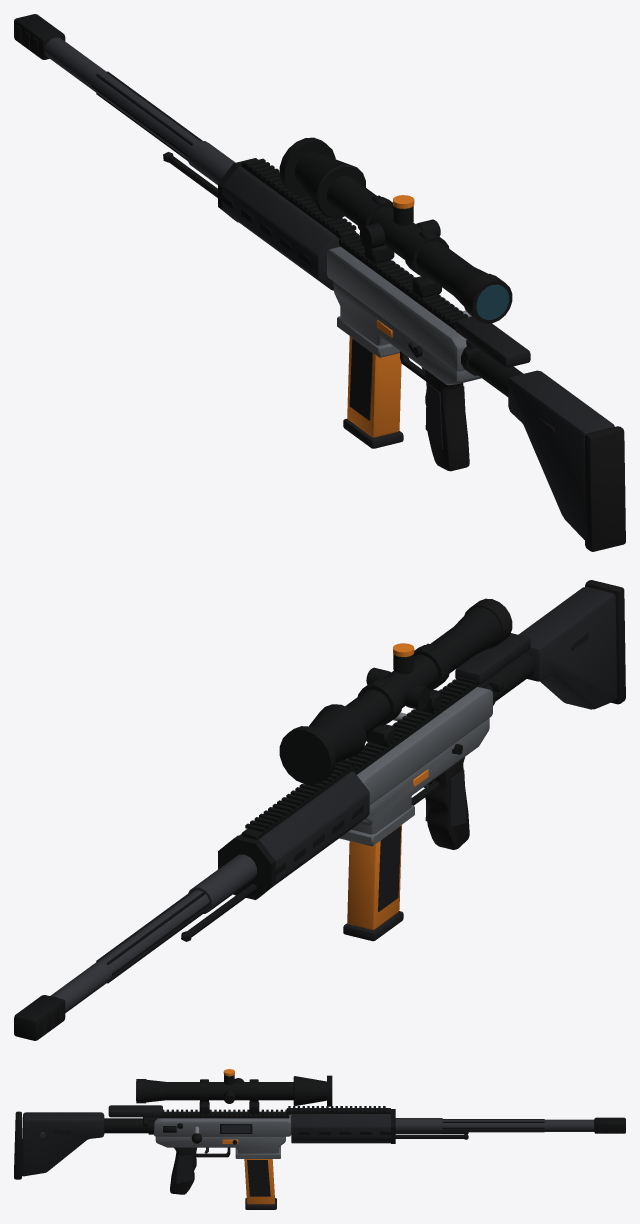
The model's file is gun_43.glb.
The picture shows the model from 3 angles, top to bottom: view 1: azimuth 30°, elevation 25°; view 2: azimuth 150°, elevation 25°; view 3: azimuth 270°, elevation 25°; orthographic projection. The views are drawn at different scales.
Parts seen in each view (by area): view 1: gun_43; view 2: gun_43; view 3: gun_43.
Part boxes in pixels (bbox=[...]): gun_43: bbox=[14, 14, 625, 551]; gun_43: bbox=[14, 580, 625, 1040]; gun_43: bbox=[14, 1069, 625, 1209].
Bounding box in the file's own units: 0.1254 × 0.3295 × 1.35.
